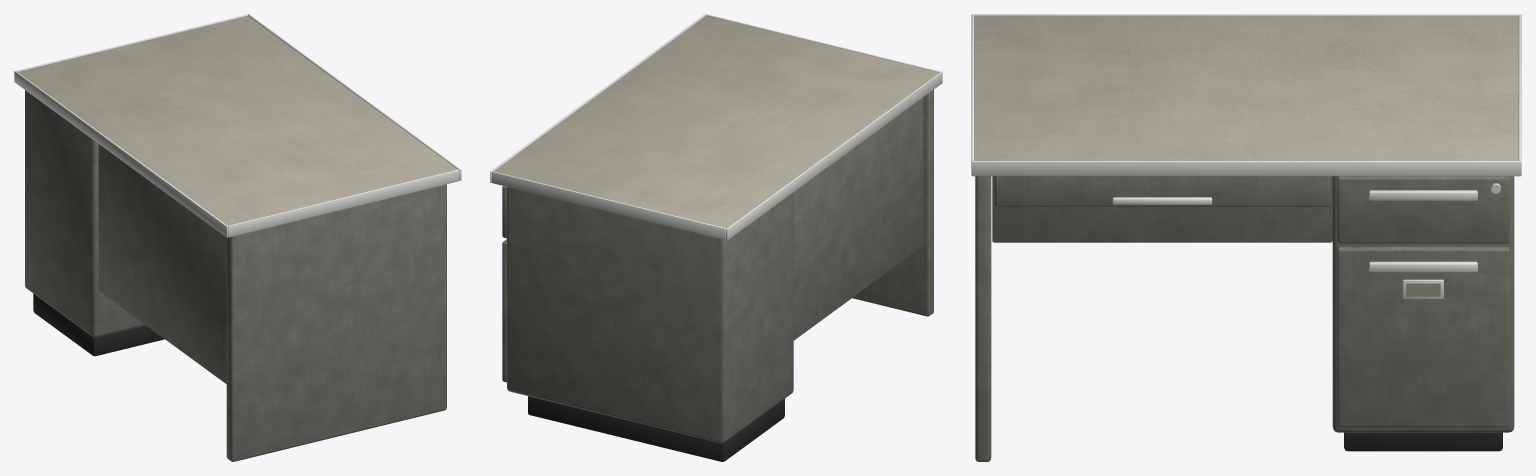
File: outpost_desk_single.glb
3 views of the same model, side by side, from view 1: azimuth 30°, elevation 25°; view 2: azimuth 150°, elevation 25°; view 3: azimuth 270°, elevation 25° (orthographic). The views are drawn at different scales.
Visible parts, largest first — view 1: endpanel, top, modesty, pedestal, band.002, band, toekick, band.001, band.003; view 2: pedestal, top, modesty, toekick, endpanel, band.003, band, drawer.001, band.001, band.002; view 3: top, drawer.001, modesty, drawer, pencildrawer, band.001, endpanel, pedestal, toekick, pull.001, pull, band (+3 smaller).
Part boxes in pixels (x1,y1,x2,y2): endpanel: (226,184,446,461); top: (18,16,457,225); modesty: (98,144,226,383); pedestal: (25,90,145,337); band.002: (228,169,459,237); band: (14,71,228,237); toekick: (33,294,164,356); band.001: (247,14,461,180); band.003: (16,14,247,71); pedestal: (507,187,793,443); top: (494,16,938,228); modesty: (793,97,923,340); toekick: (528,396,784,461); endpanel: (852,90,933,316); band.003: (492,171,726,239); band: (726,71,942,240); drawer.001: (502,239,506,382); band.001: (490,14,706,182); band.002: (706,14,940,72); top: (974,16,1518,160); drawer.001: (1337,246,1509,427); modesty: (992,176,1332,242); drawer: (1337,176,1509,243); pencildrawer: (994,176,1330,206); band.001: (971,161,1521,176); endpanel: (975,176,991,461); pedestal: (1332,176,1514,432); toekick: (1344,432,1502,451); pull.001: (1369,261,1477,272); pull: (1369,190,1477,200); band: (971,14,1521,15).
Bounding box in the file's own units: 0.772 × 0.752 × 1.21.
Materials: 5 (3 with a texture image).
